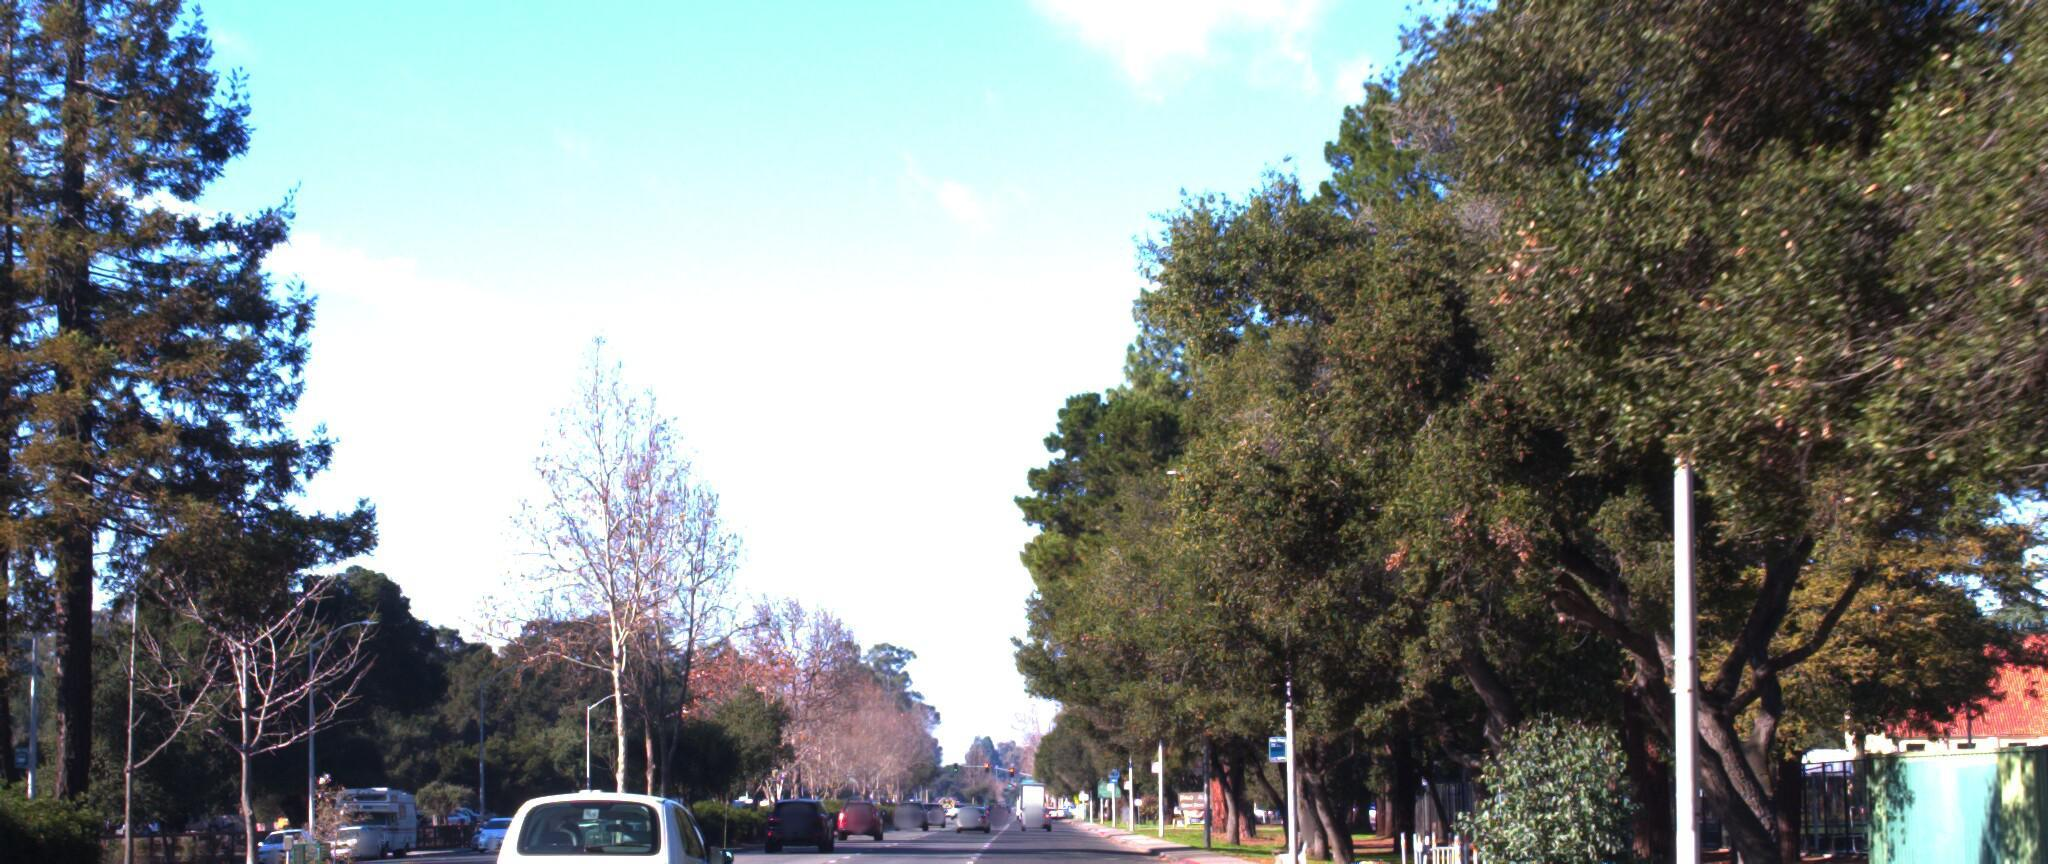car: (455, 780, 746, 864)
